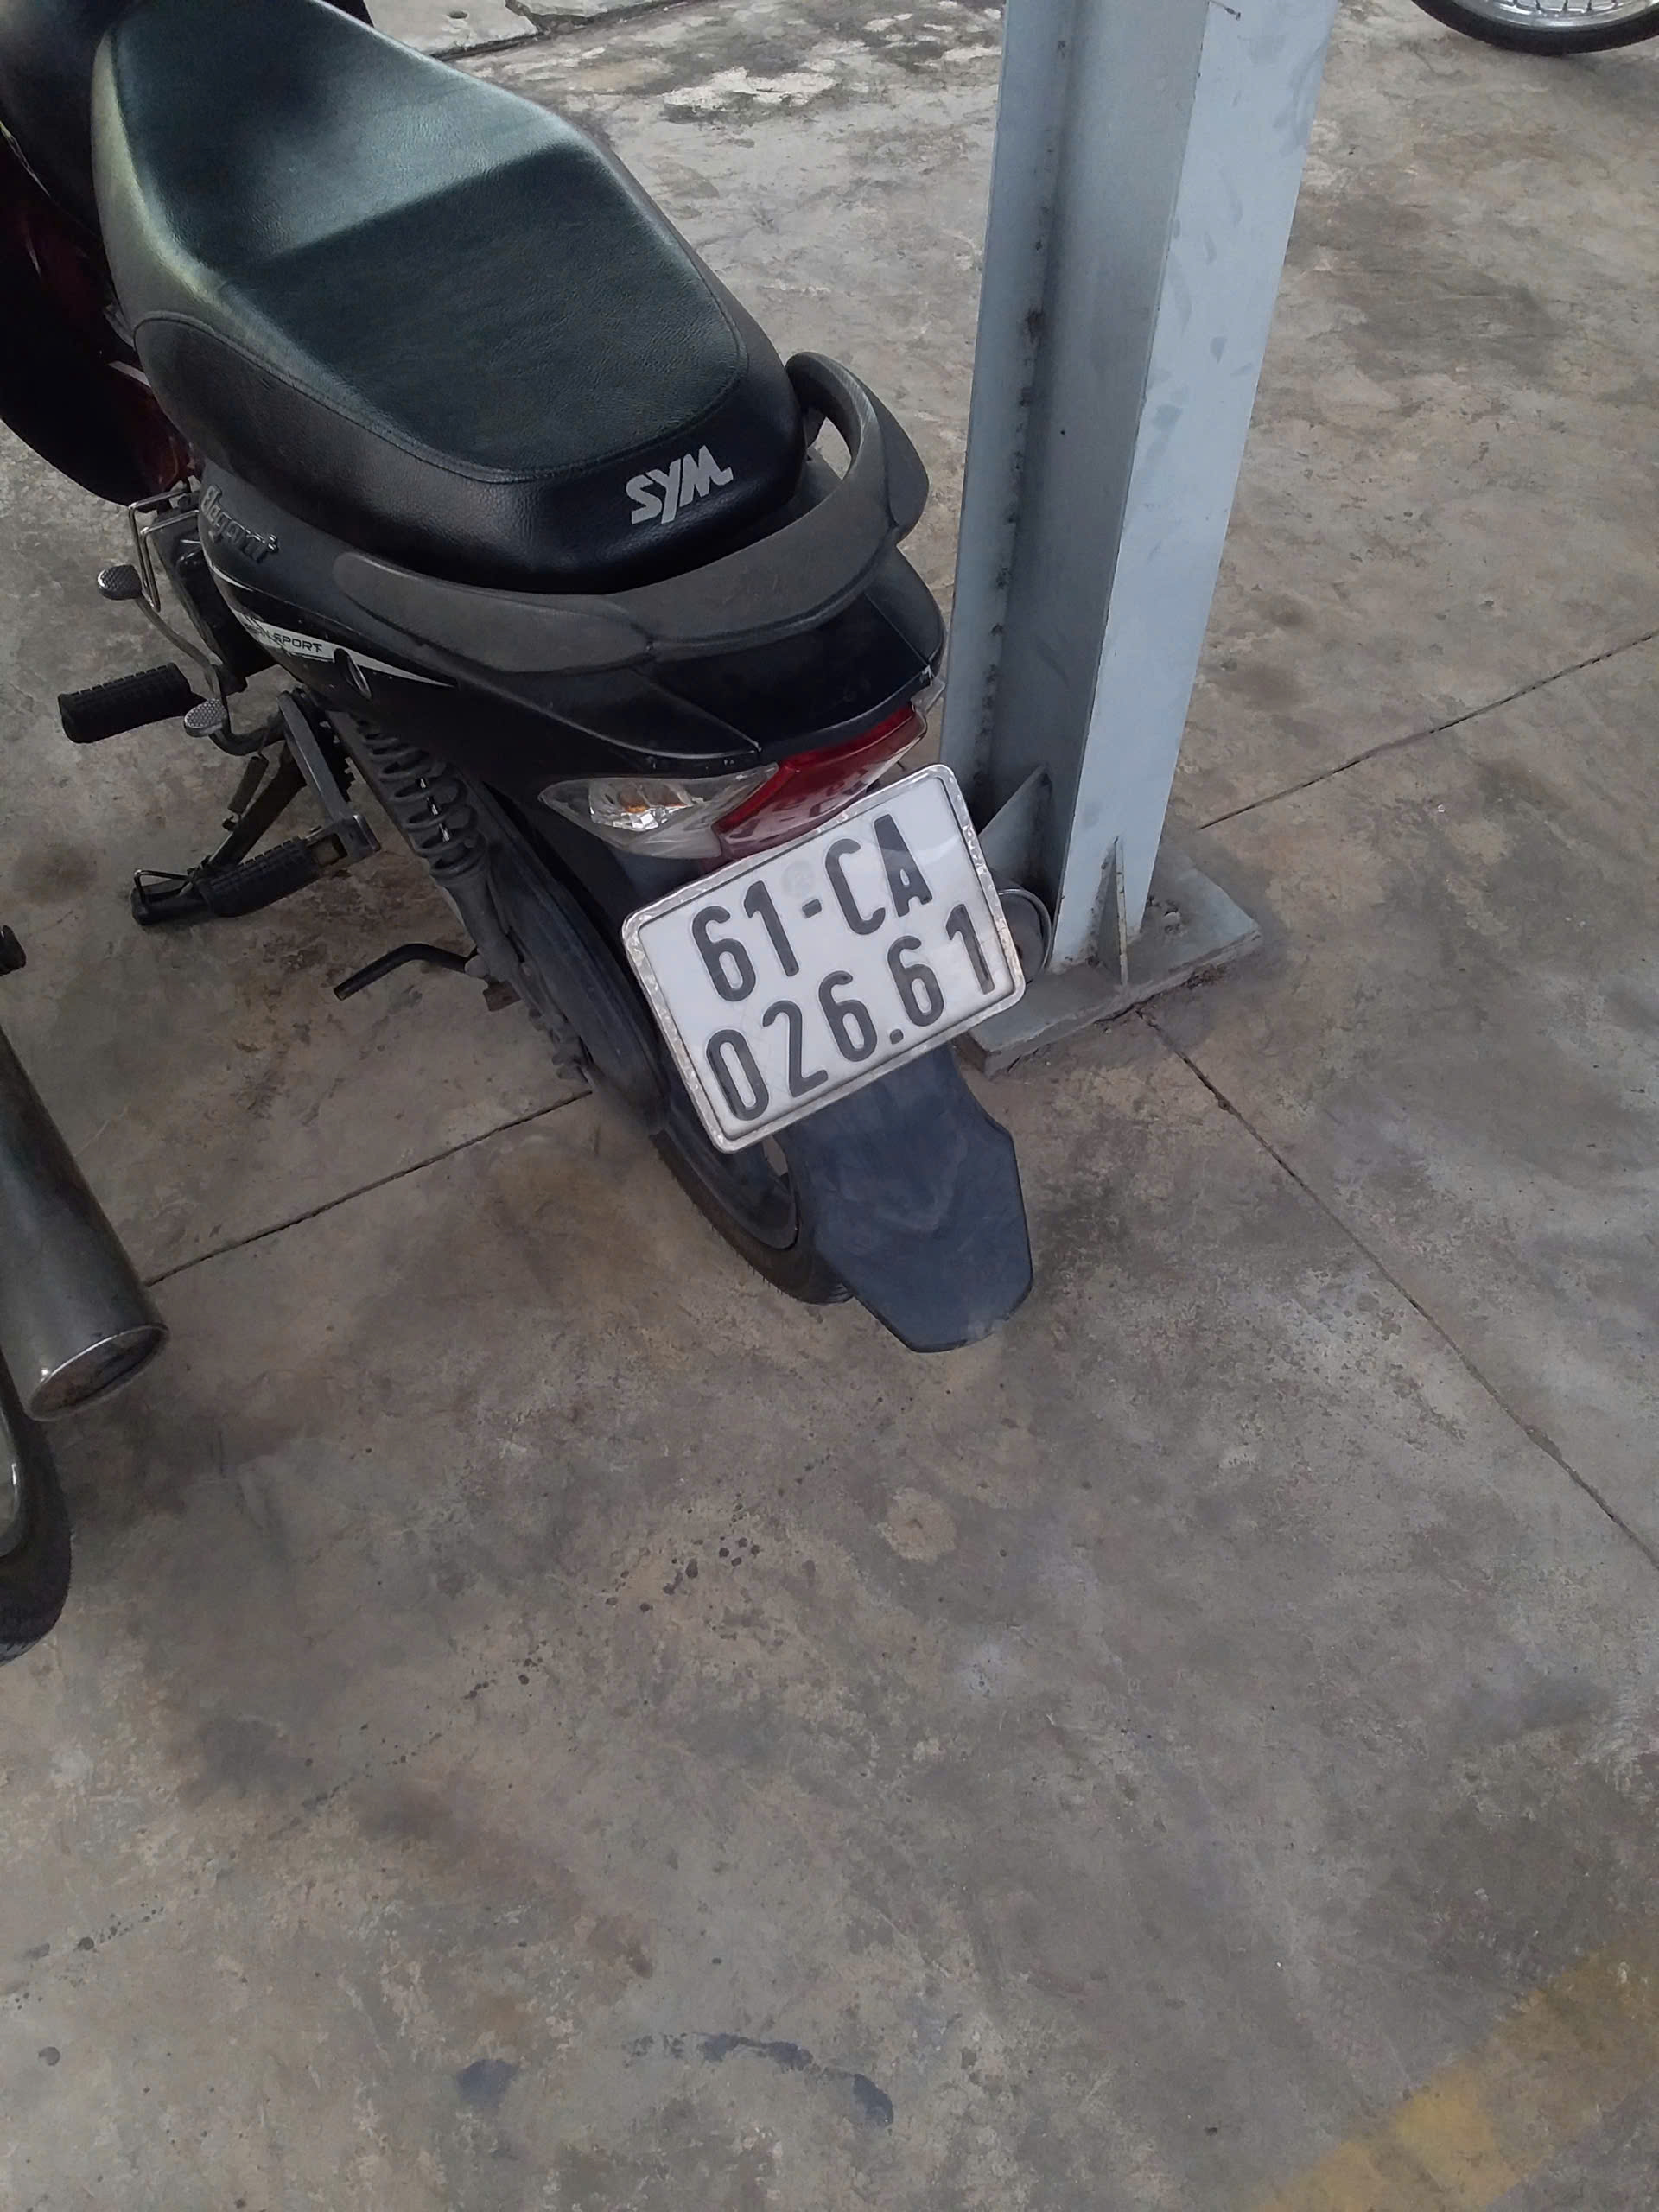bien_so: (634, 772, 1021, 1145)
